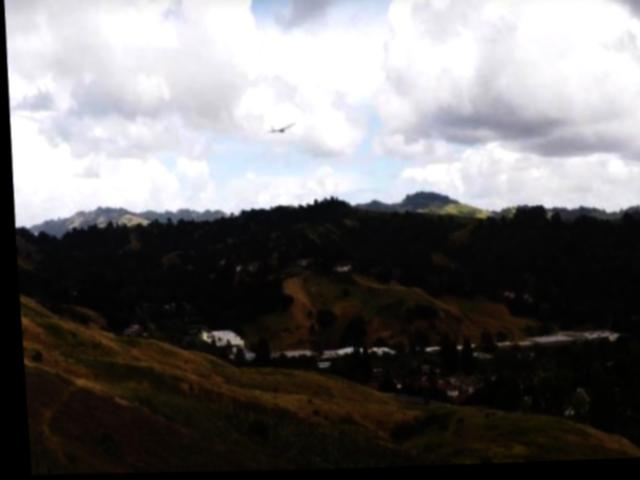iha: (263, 122, 292, 139)
